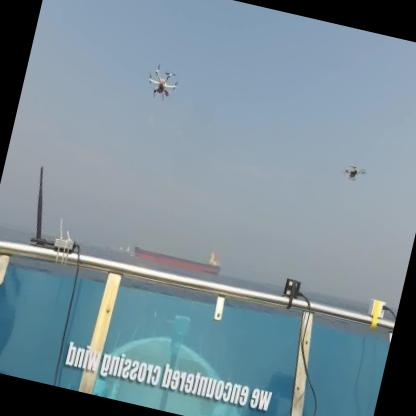drone: (142, 58, 186, 109), (337, 161, 368, 194)
